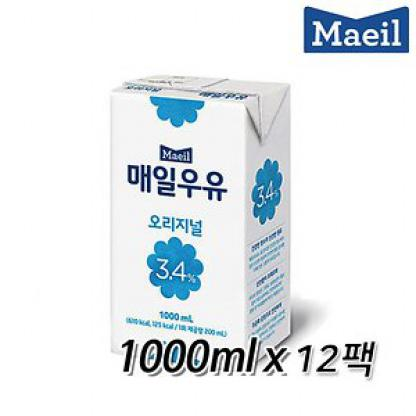tetra: (96, 54, 310, 330)
